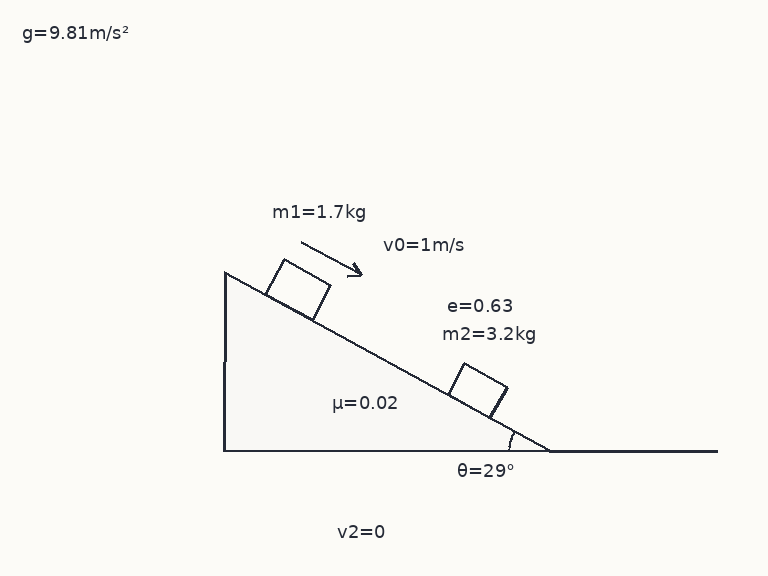block: (263, 257, 333, 321), (445, 361, 509, 420)
ramp: (223, 269, 551, 453)
